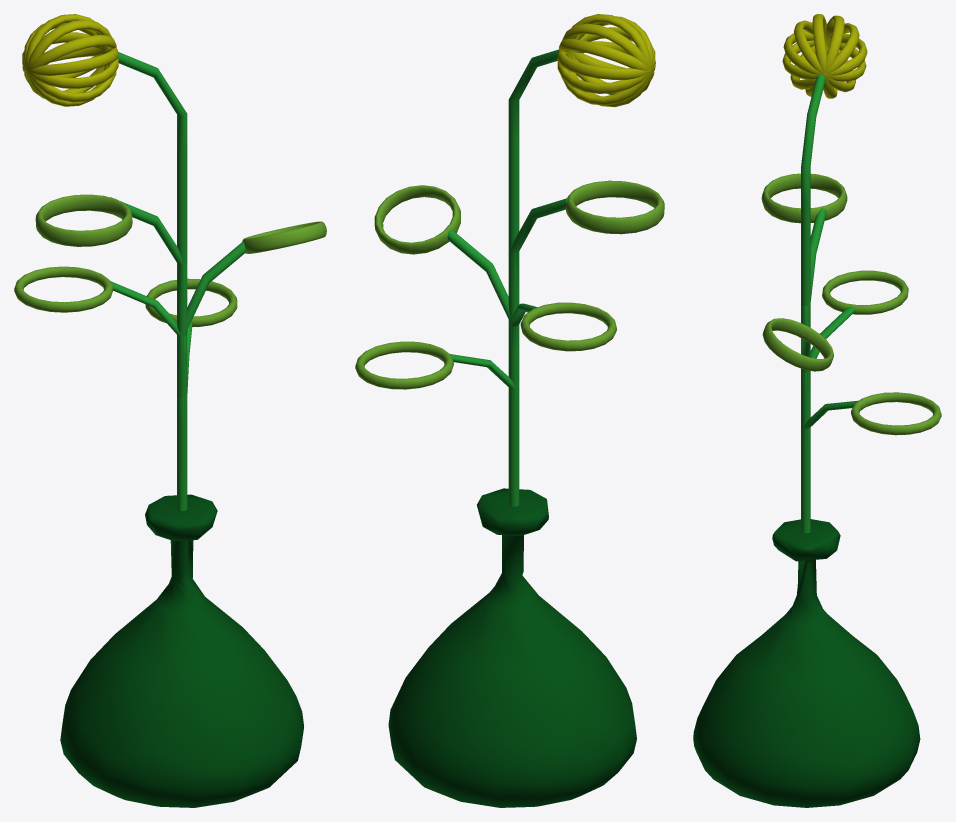
File: Fatflower.fbx
3 views of the same model, side by side, from view 1: azimuth 30°, elevation 25°; view 2: azimuth 150°, elevation 25°; view 3: azimuth 270°, elevation 25° (orthographic). The views are drawn at different scales.
Parts seen in each view (by area): view 1: Fatbase, Fatleaf4, FatstemMain, Fatstem, Fatleaf1, Fatstem1, FatStem4, Fatleaf2, Fatleaf3, FattopSpore5, FattopSpore6, FattopSpore3 (+4 smaller); view 2: Fatbase, Fatleaf4, FatstemMain, Fatstem, Fatstem1, Fatleaf2, Fatleaf3, Fatleaf1, FatStem4, FattopSpore1, FattopSpore6, FattopSpore5 (+4 smaller); view 3: Fatbase, FatstemMain, Fatleaf4, Fatleaf2, Fatleaf3, Fatstem, Fatleaf1, FatStem4, Fatstem1, FattopSpore5, FattopSpore6, FattopSpore4 (+4 smaller).
Boxes of the visible parts, bbox=[...] form: Fatbase: bbox=[60, 494, 303, 807]; Fatleaf4: bbox=[35, 194, 132, 246]; FatstemMain: bbox=[118, 52, 187, 335]; Fatstem: bbox=[110, 197, 187, 484]; Fatleaf1: bbox=[14, 266, 113, 312]; Fatstem1: bbox=[177, 241, 245, 510]; FatStem4: bbox=[110, 281, 187, 473]; Fatleaf2: bbox=[242, 221, 326, 253]; Fatleaf3: bbox=[145, 278, 237, 326]; FattopSpore5: bbox=[22, 47, 118, 75]; FattopSpore6: bbox=[22, 32, 118, 88]; FattopSpore3: bbox=[27, 19, 111, 98]; Fatbase: bbox=[388, 488, 636, 807]; Fatleaf4: bbox=[566, 180, 664, 234]; FatstemMain: bbox=[508, 49, 558, 318]; Fatstem: bbox=[508, 197, 568, 477]; Fatstem1: bbox=[447, 230, 519, 506]; Fatleaf2: bbox=[374, 185, 460, 254]; Fatleaf3: bbox=[355, 341, 453, 389]; Fatleaf1: bbox=[520, 302, 616, 351]; FatStem4: bbox=[509, 303, 537, 466]; FattopSpore1: bbox=[559, 38, 654, 78]; FattopSpore6: bbox=[557, 41, 655, 79]; FattopSpore5: bbox=[557, 27, 655, 93]; Fatbase: bbox=[693, 519, 920, 807]; FatstemMain: bbox=[801, 74, 825, 371]; Fatleaf4: bbox=[761, 173, 847, 223]; Fatleaf2: bbox=[762, 318, 833, 371]; Fatleaf3: bbox=[851, 392, 941, 435]; Fatstem: bbox=[801, 208, 826, 508]; Fatleaf1: bbox=[822, 270, 908, 314]; FatStem4: bbox=[801, 306, 854, 498]; Fatstem1: bbox=[801, 335, 810, 533]; FattopSpore5: bbox=[783, 31, 866, 81]; FattopSpore6: bbox=[782, 33, 867, 79]; FattopSpore4: bbox=[794, 20, 855, 92].
Bounding box in the file's own units: 7.3 × 19.61 × 6.07.
